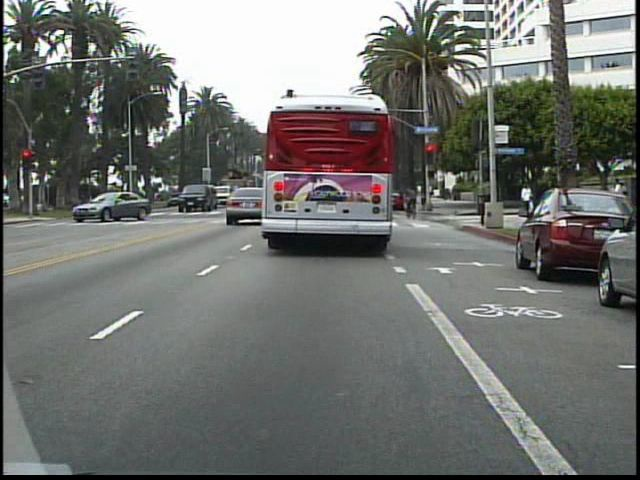person: (609, 175, 626, 224), (402, 182, 423, 217), (518, 181, 537, 218)
